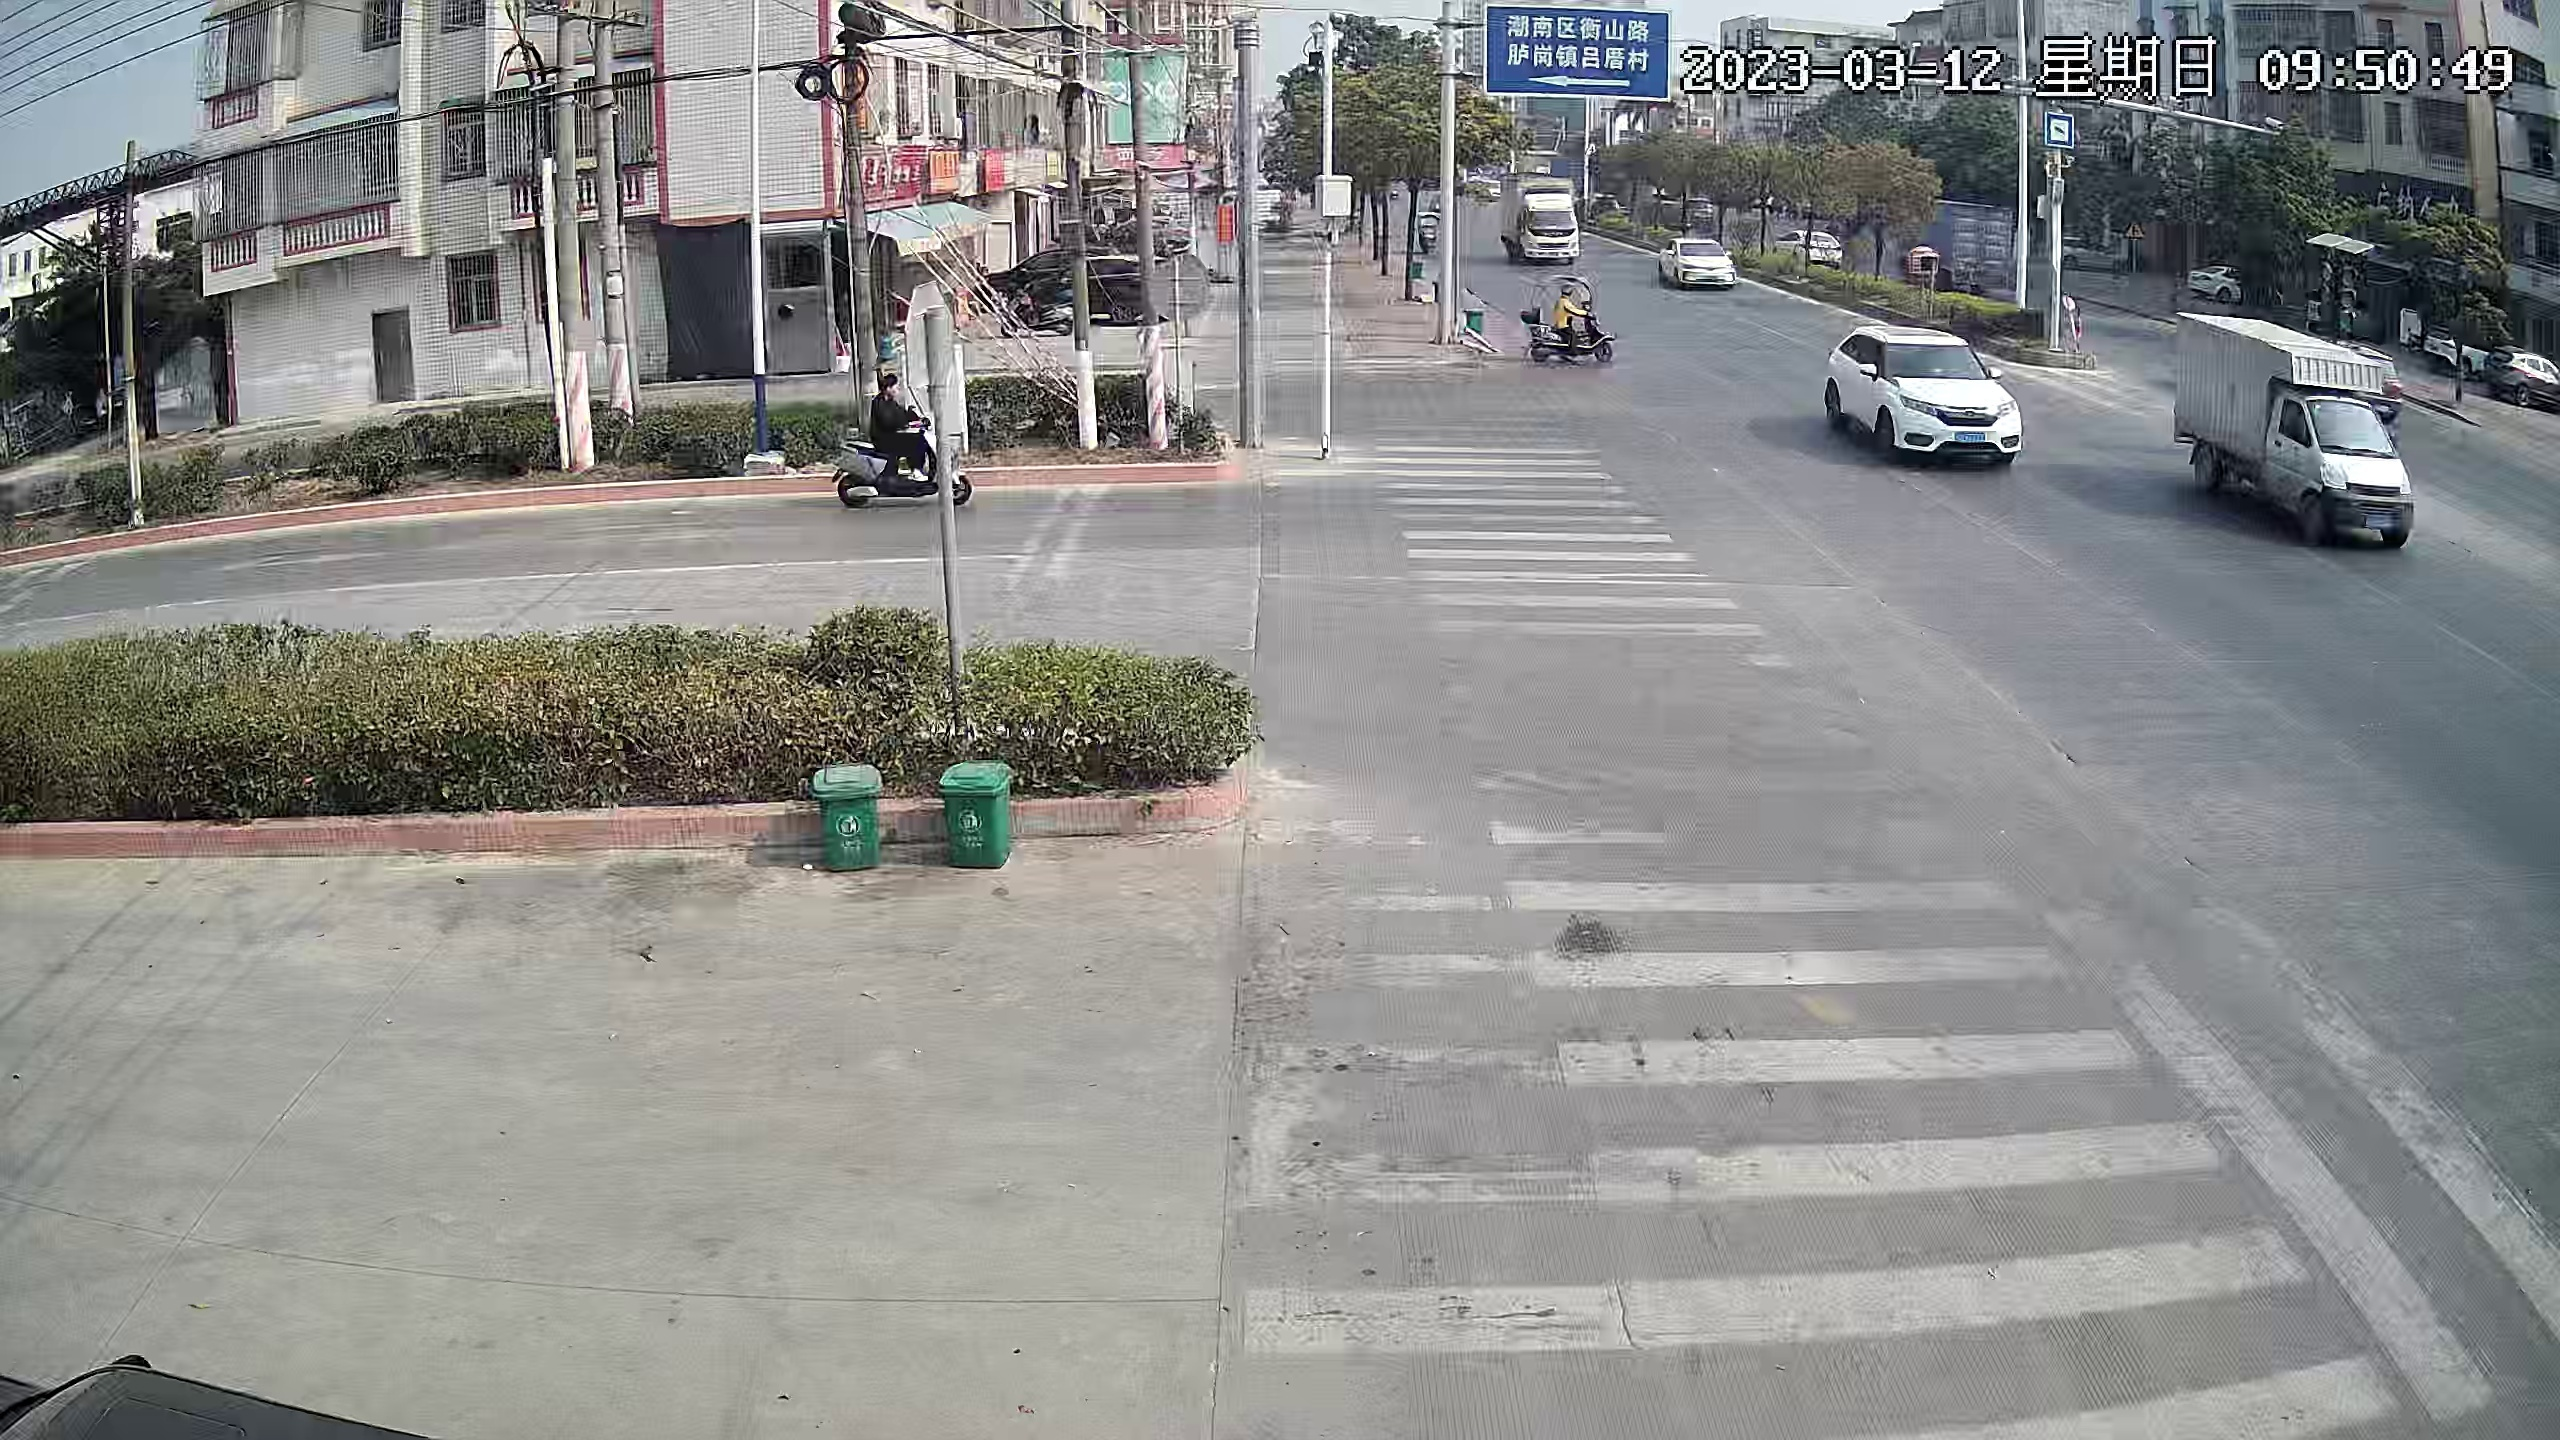motorcycle: (1524, 283, 1610, 365), (1415, 202, 1448, 262)
person: (877, 372, 939, 487), (1554, 282, 1589, 359)
sedan: (12, 1339, 448, 1440), (833, 367, 973, 514), (2487, 344, 2557, 414), (1663, 235, 1738, 292), (1778, 230, 1842, 274), (2193, 257, 2248, 298), (2429, 324, 2470, 374)
suv: (1820, 323, 2027, 472)
truck: (2175, 305, 2419, 549), (1929, 188, 2013, 303), (1497, 170, 1584, 269)
